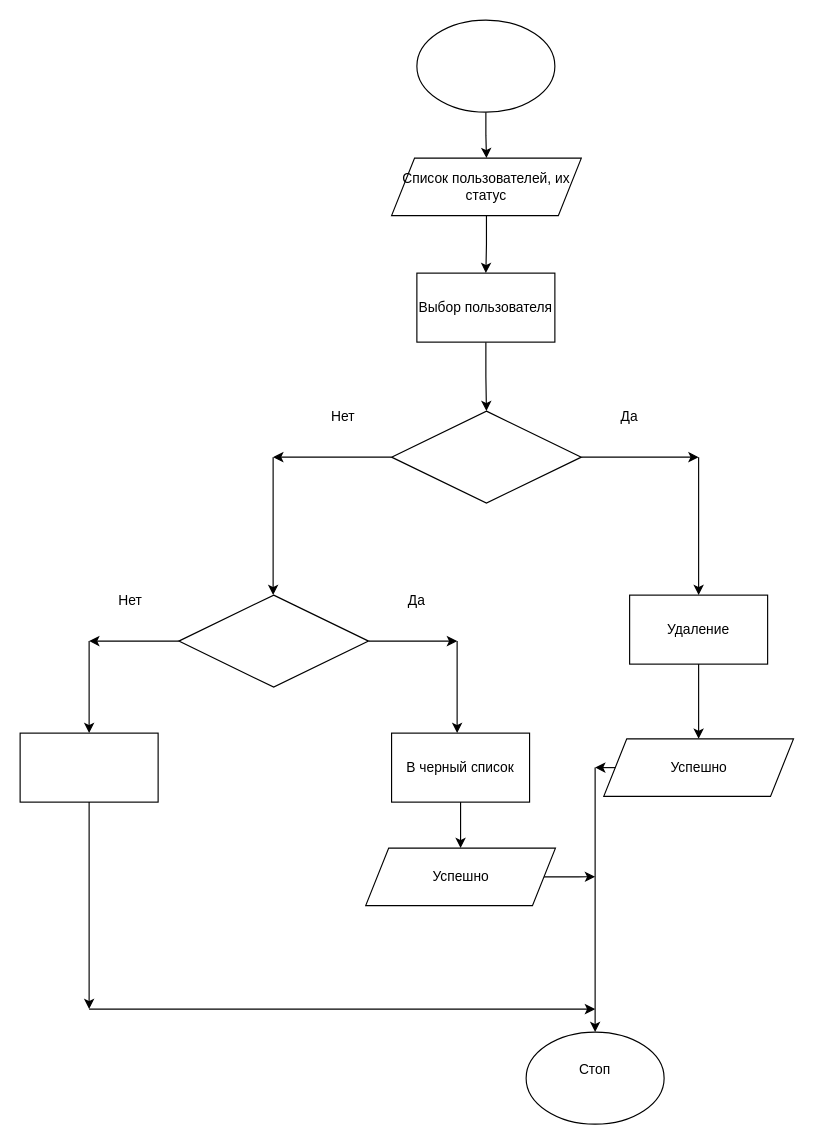
The diagram is 814 pixels wide and 1144 high, and some of its shapes have lost their labels. Here are the shapes that lost their labels. From the top down, the box of each, then its label:
(416, 19, 555, 112): Старт
(390, 410, 581, 503): Удалить?
(178, 594, 369, 687): В черный список?
(19, 732, 158, 802): Отмена
